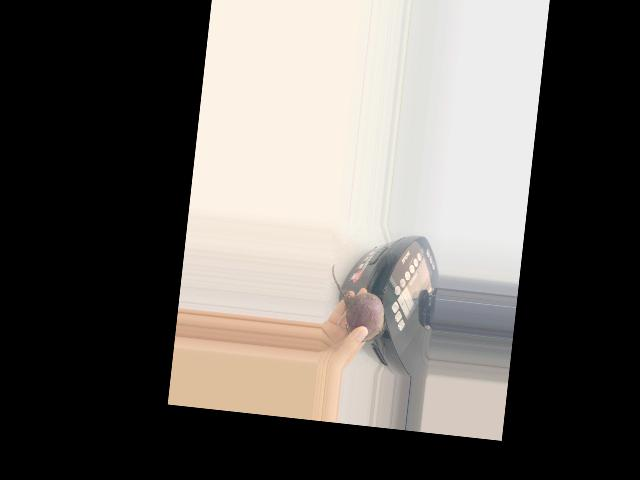beet: (324, 264, 391, 343)
